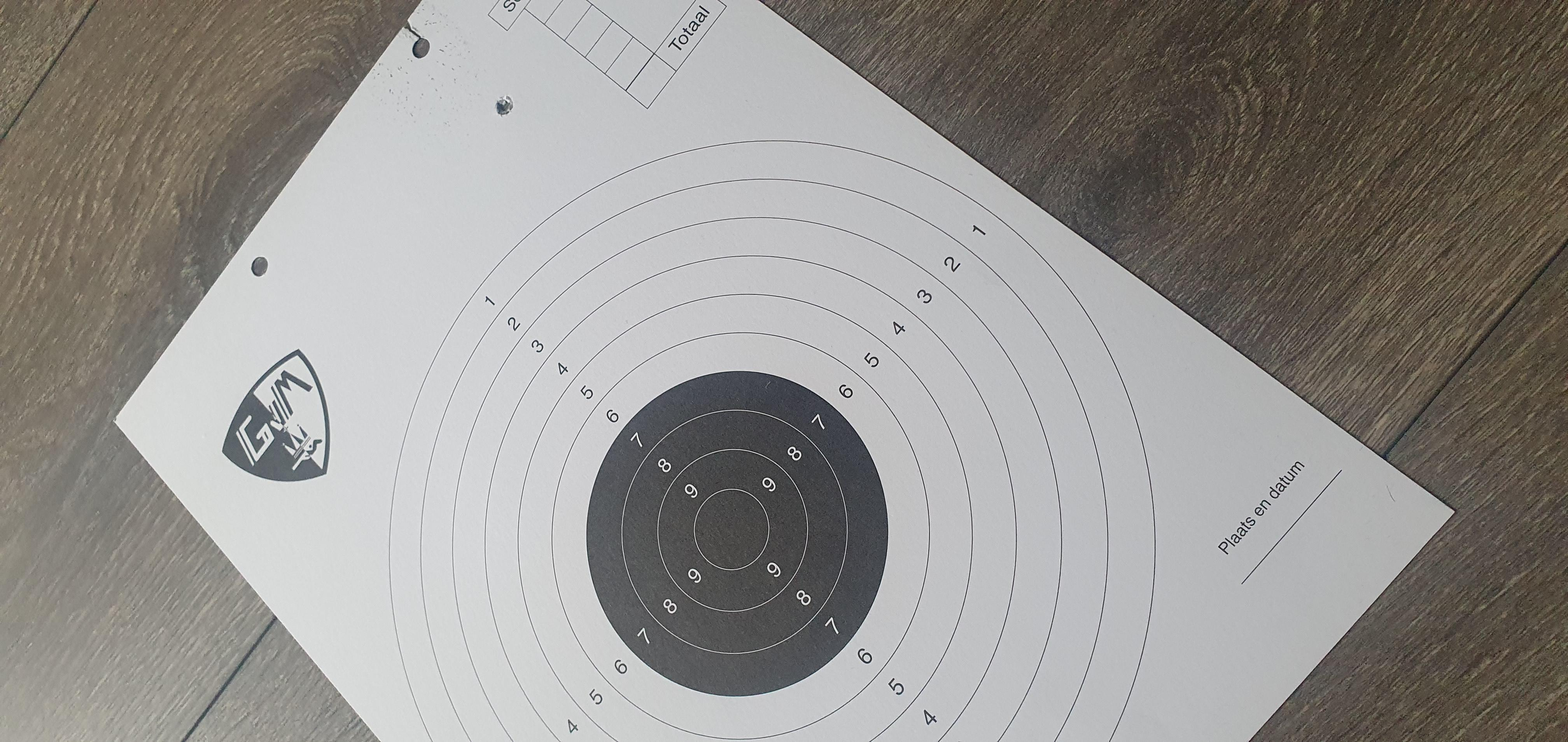hole: (1319, 232, 1374, 246)
